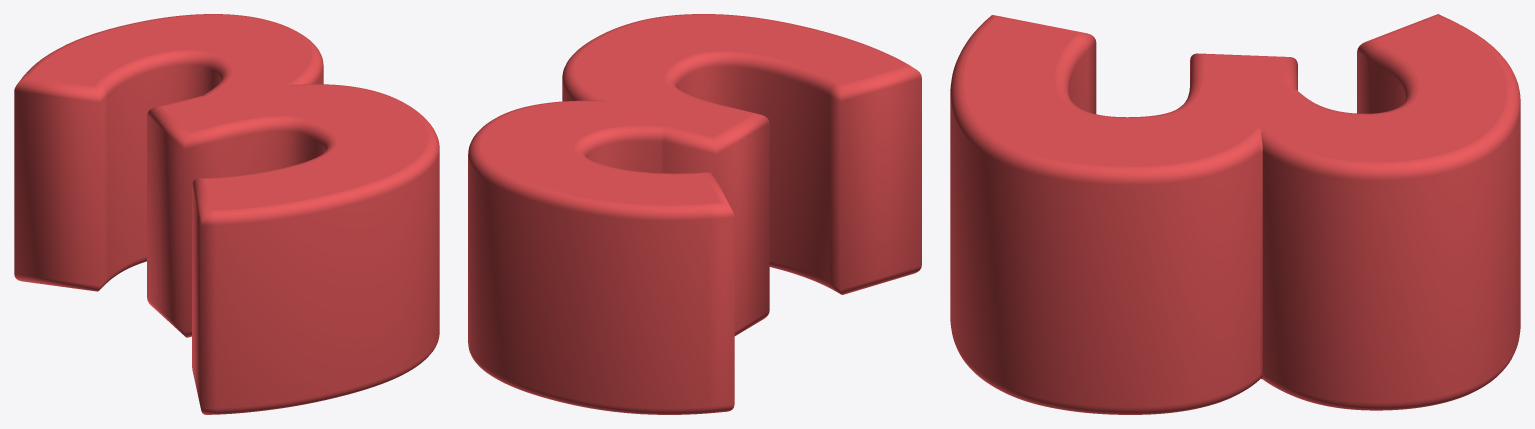
Rendered from MathSymbol_Three.glb.
3 views of the same model, side by side, from view 1: azimuth 30°, elevation 25°; view 2: azimuth 150°, elevation 25°; view 3: azimuth 270°, elevation 25° (orthographic). The views are drawn at different scales.
Parts seen in each view (by area): view 1: Text; view 2: Text; view 3: Text.
Boxes of the visible parts, x1=… form: Text: x1=14, y1=14, x2=439, y2=414; Text: x1=468, y1=14, x2=921, y2=414; Text: x1=950, y1=14, x2=1520, y2=414.
Bounding box in the file's own units: 0.2854 × 0.2 × 0.4187.
